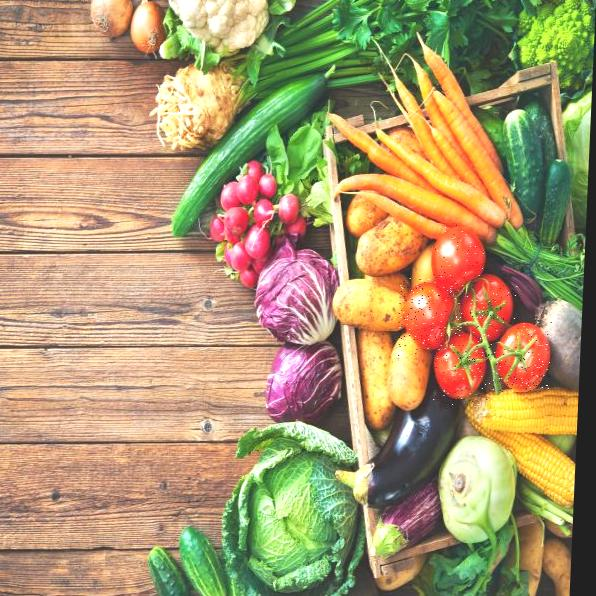Tomato: (397, 273, 464, 356), (431, 324, 495, 406), (429, 224, 487, 302), (493, 320, 552, 392), (464, 267, 519, 341)
